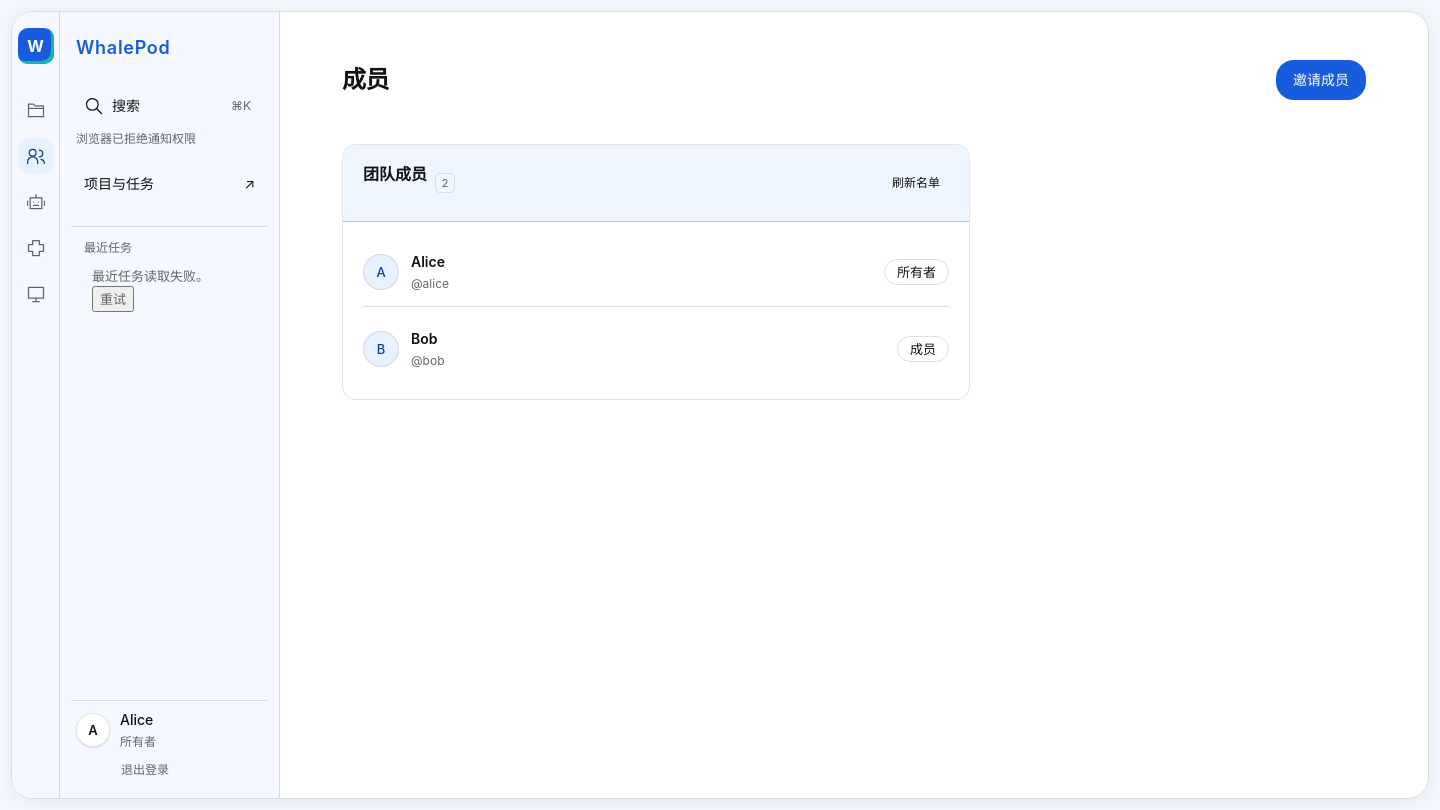
it: #152 布局：内容容器与两栏栅格 › 成员页：主列 = 团队成员名单，侧列 = 邀请面板
The width and height of the screenshot is (1440, 810).
Expected: the heading "团队成员" is shown, [363, 163, 427, 185]
Expected: the element showing "团队成员 2 刷新名单 A Alice @alice 所有者 B Bob @bob 成员" is shown, [342, 144, 970, 400]
Click the button "邀请成员" at (1321, 80), box [1276, 60, 1366, 100]
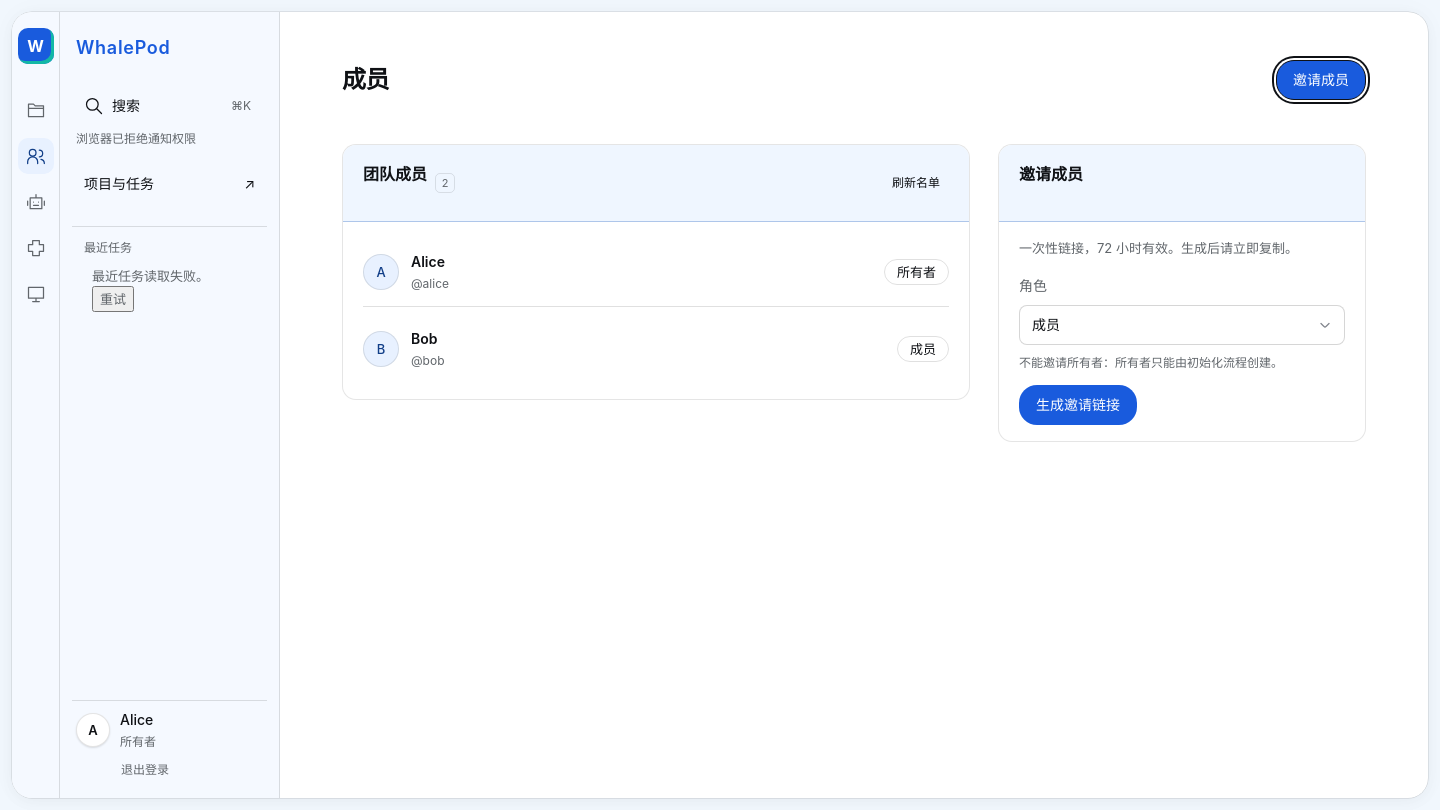
Expected: the heading "邀请成员" is shown, [1019, 163, 1083, 185]
Expected: the button "生成邀请链接" is shown, [1019, 385, 1137, 425]
